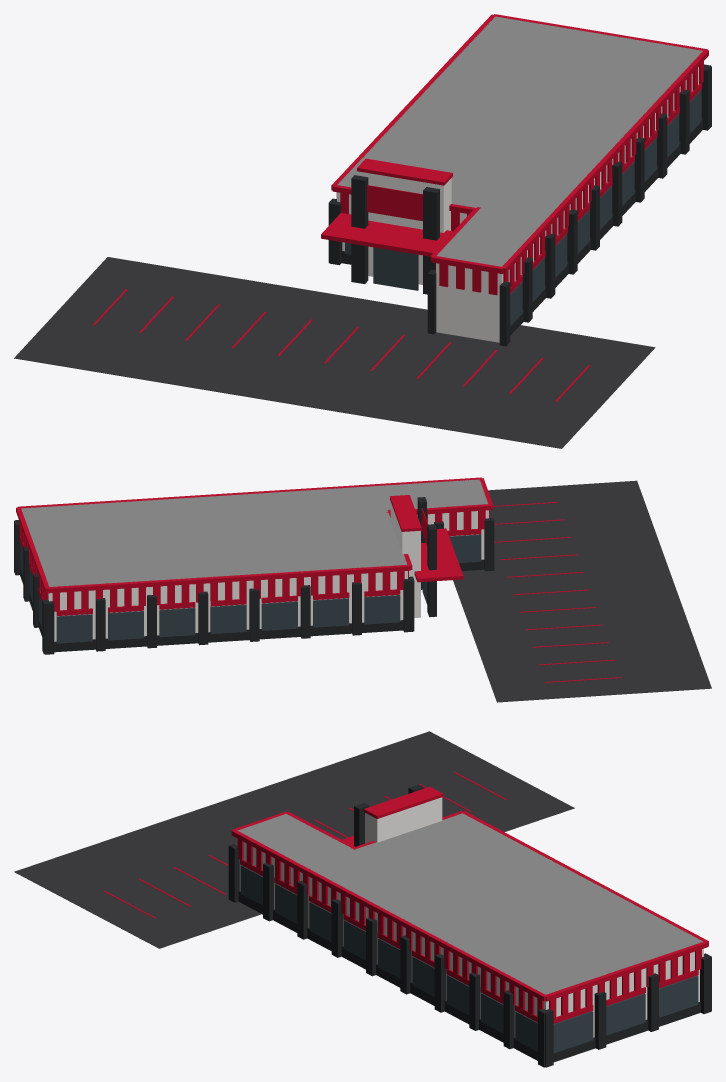
Rendered from kfc2.glb.
3 renders of one model, top to bottom at view 1: azimuth 30°, elevation 25°; view 2: azimuth 150°, elevation 25°; view 3: azimuth 270°, elevation 25°, orthographic. The views are drawn at different scales.
Visible parts, largest first — view 1: kfc2_lod0; view 2: kfc2_lod0; view 3: kfc2_lod0.
Boxes of the visible parts, <box> form: kfc2_lod0: <box>14,14,711,448</box>; kfc2_lod0: <box>14,477,711,702</box>; kfc2_lod0: <box>14,731,711,1067</box>.
Size of what is drawn, in the model's own units: 47.83 by 6.4 by 41.97.
